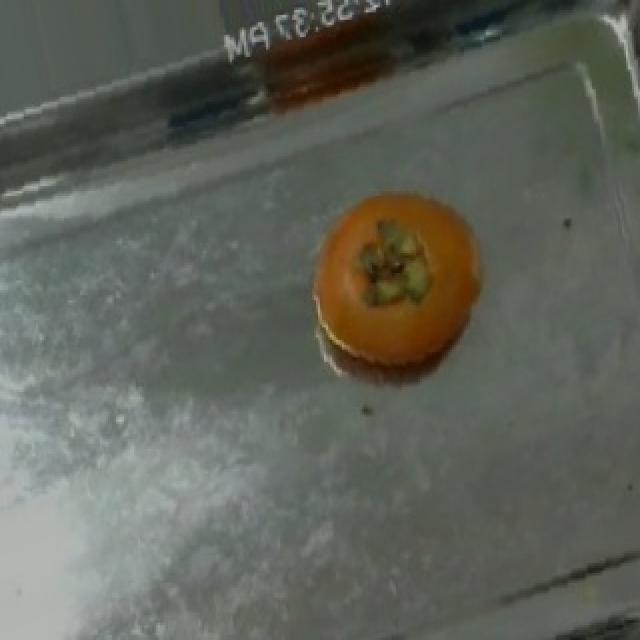Fruit: (292, 176, 506, 392)
